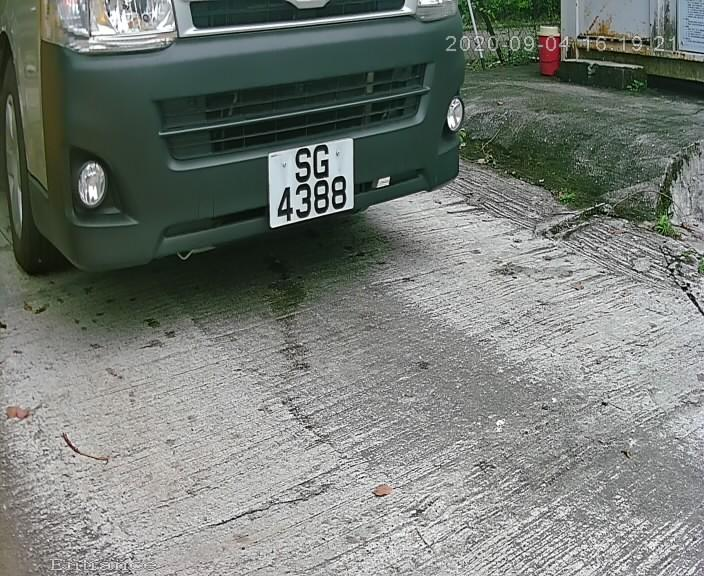License Plate: (261, 132, 365, 229)
